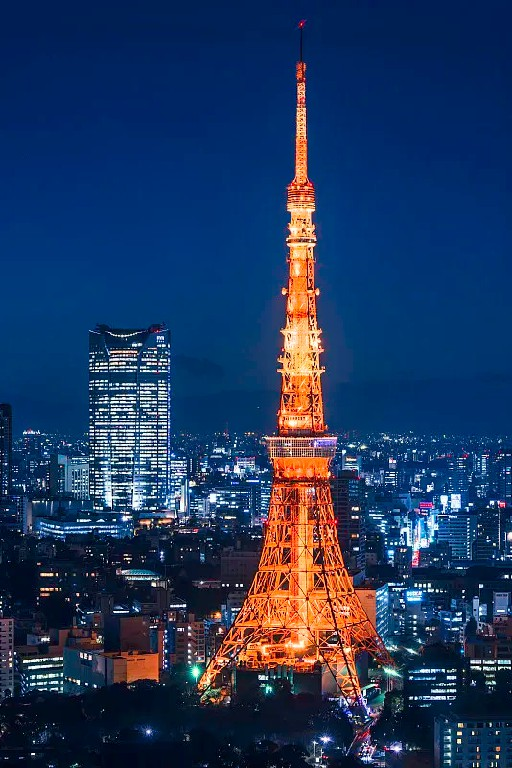Tokyo: (194, 16, 393, 709)
